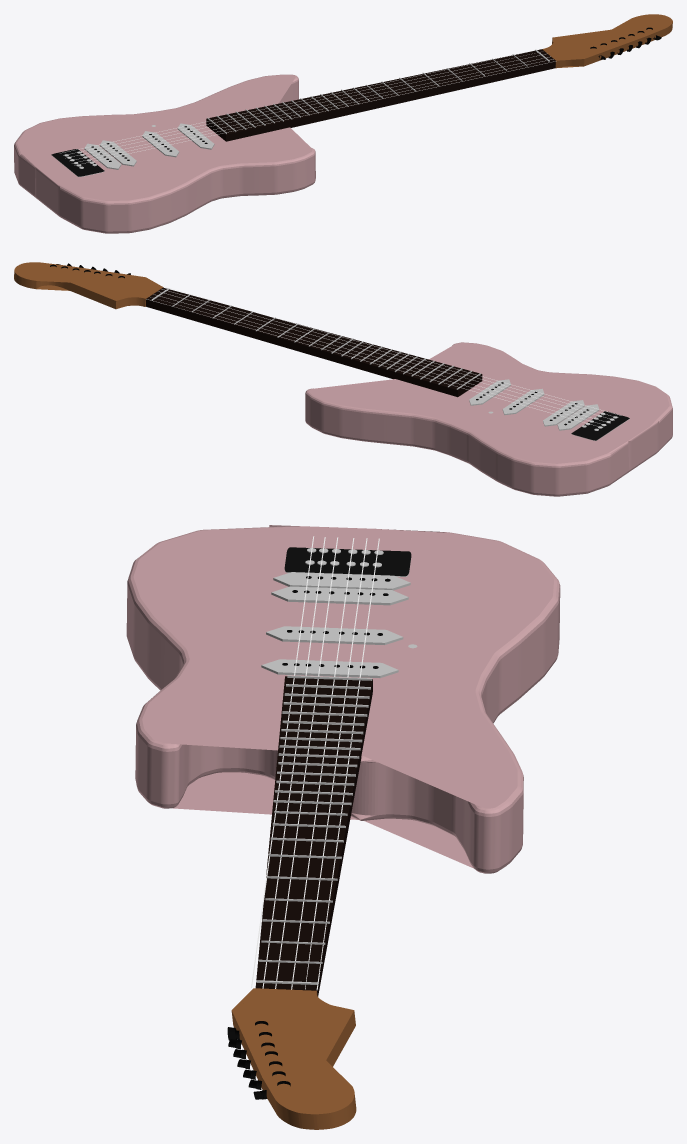
Rendered from GuitarWhite.obj.
The picture shows the model from 3 angles, top to bottom: view 1: azimuth 30°, elevation 25°; view 2: azimuth 150°, elevation 25°; view 3: azimuth 270°, elevation 25°; orthographic projection. The views are drawn at different scales.
Visible parts, largest first — view 1: Vert.050, Vert.052, Vert.055, Vert.051, Plane.209_Plane.210, Plane.206_Plane.207, Vert.054, Plane.212_Plane.213; view 2: Vert.050, Vert.052, Vert.055, Vert.051, Plane.209_Plane.210, Plane.206_Plane.207, Vert.054, Plane.212_Plane.213; view 3: Vert.050, Vert.052, Vert.055, Plane.206_Plane.207, Vert.054, Plane.209_Plane.210, Plane.212_Plane.213, Vert.051.
Boxes of the visible parts, <box> form: Vert.050: <box>14,74,315,233</box>; Vert.052: <box>206,49,554,134</box>; Vert.055: <box>542,14,672,68</box>; Vert.051: <box>206,60,555,141</box>; Plane.209_Plane.210: <box>60,49,556,165</box>; Plane.206_Plane.207: <box>84,123,214,169</box>; Vert.054: <box>207,49,549,133</box>; Plane.212_Plane.213: <box>51,149,104,176</box>; Vert.050: <box>305,342,672,496</box>; Vert.052: <box>146,287,481,390</box>; Vert.055: <box>14,262,163,309</box>; Vert.051: <box>146,299,482,397</box>; Plane.209_Plane.210: <box>146,286,621,427</box>; Plane.206_Plane.207: <box>469,379,599,430</box>; Vert.054: <box>151,288,480,389</box>; Plane.212_Plane.213: <box>571,411,629,440</box>; Vert.050: <box>126,525,560,873</box>; Vert.052: <box>255,676,372,990</box>; Vert.055: <box>231,988,356,1129</box>; Plane.206_Plane.207: <box>261,572,410,677</box>; Vert.054: <box>256,675,372,984</box>; Plane.209_Plane.210: <box>251,536,379,990</box>; Plane.212_Plane.213: <box>284,547,411,576</box>; Vert.051: <box>261,680,372,996</box>.
Bounding box in the file's own units: 1.38 × 0.0937 × 0.418.
